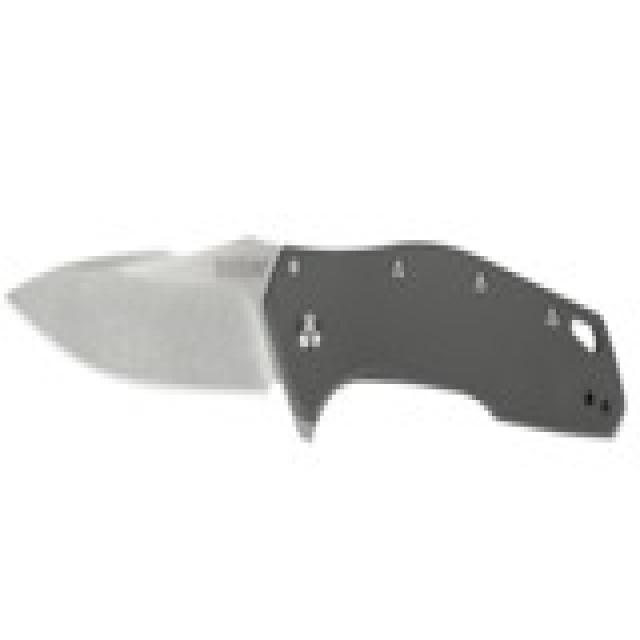Knife: (3, 208, 630, 472)
